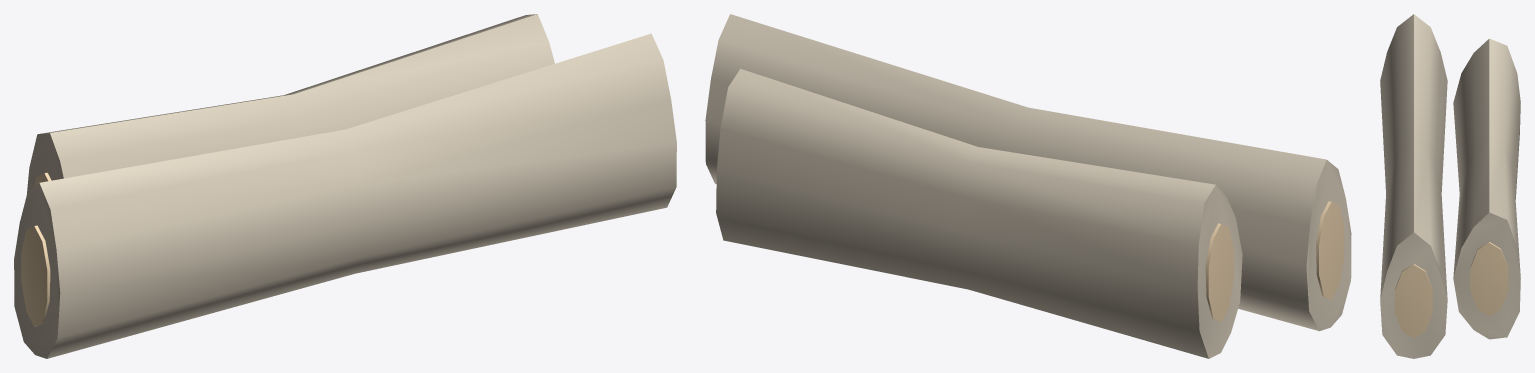
File: gale_ram_marrow_bones.glb
The picture shows the model from 3 angles, left to right: view 1: azimuth 30°, elevation 25°; view 2: azimuth 150°, elevation 25°; view 3: azimuth 270°, elevation 25°; orthographic projection. The views are drawn at different scales.
Parts seen in each view (by area): view 1: gale_ram_marrow_bones; view 2: gale_ram_marrow_bones; view 3: gale_ram_marrow_bones.
Boxes of the visible parts, x1,y1,x2,y2 form: gale_ram_marrow_bones: (14, 14, 676, 358); gale_ram_marrow_bones: (705, 14, 1351, 358); gale_ram_marrow_bones: (1380, 14, 1520, 358).
Size of the model in its own units: 0.15 by 0.04 by 0.04.
